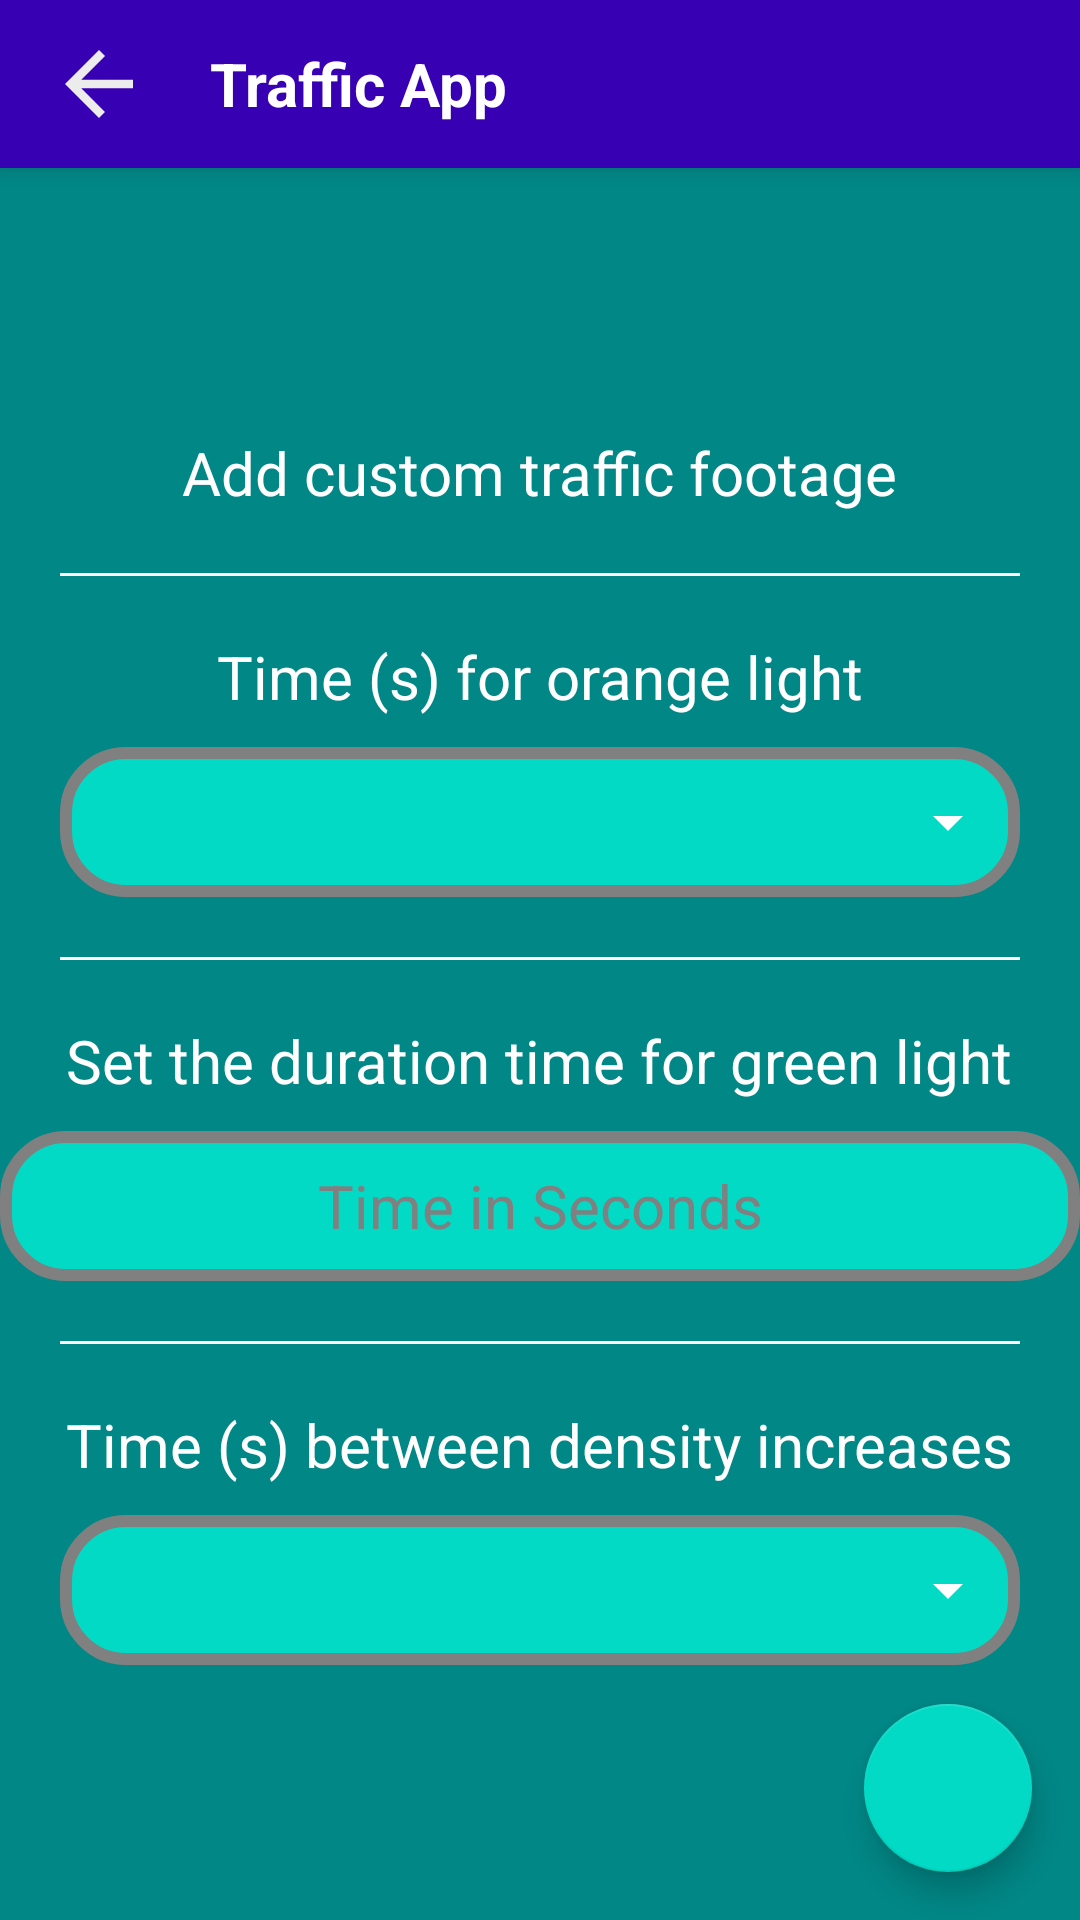

Named icons in this screenshot (1080 x 1920) and their bounding boxes, (x1, y1, x2, y2):
arrow back: (65, 50, 133, 118)
